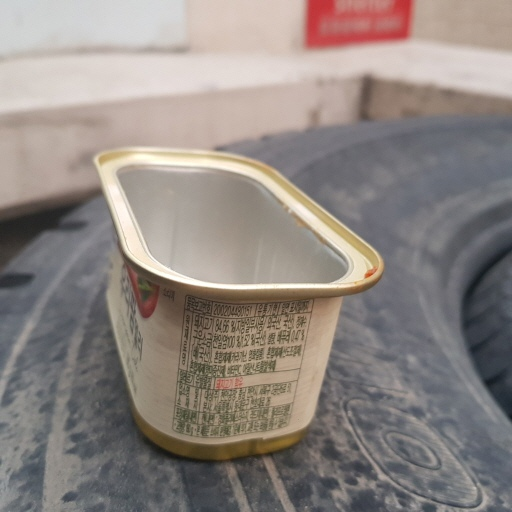Metal_2: (85, 143, 383, 459)
